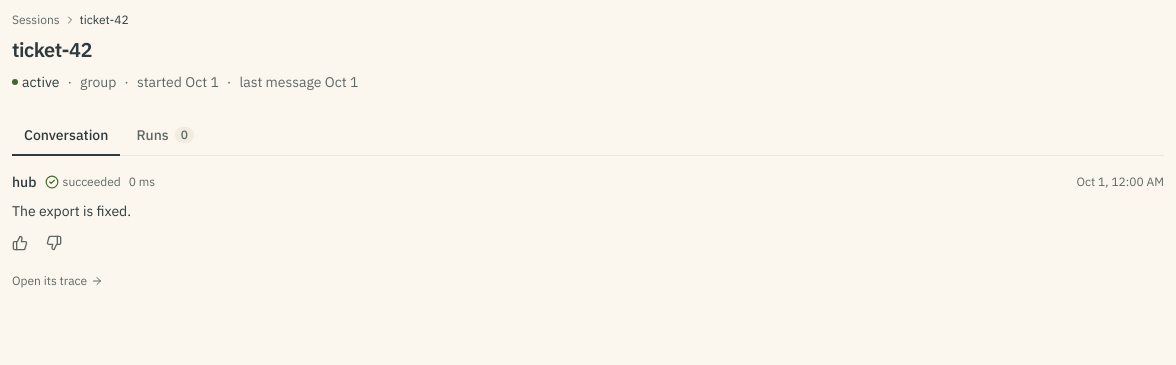
the note on a 👎 › keeps the note and says why when it cannot be sent
The width and height of the screenshot is (1176, 365).
Expected: the heading "ticket-42" is shown, [12,36,92,63]
Click the button named "This answer was wrong": (54, 243) [38,227,70,259]
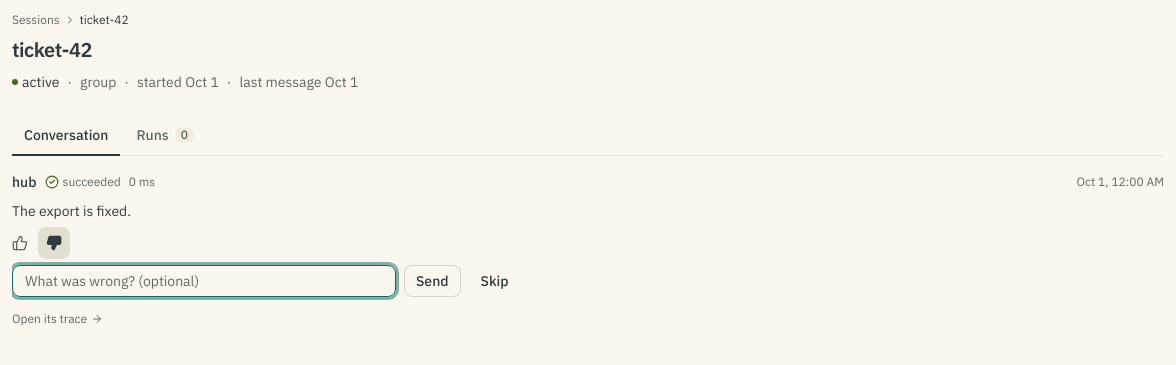
In the field labelled "What was wrong?": (204, 281) [12,265,396,297], type "Nope"
Then press Enter
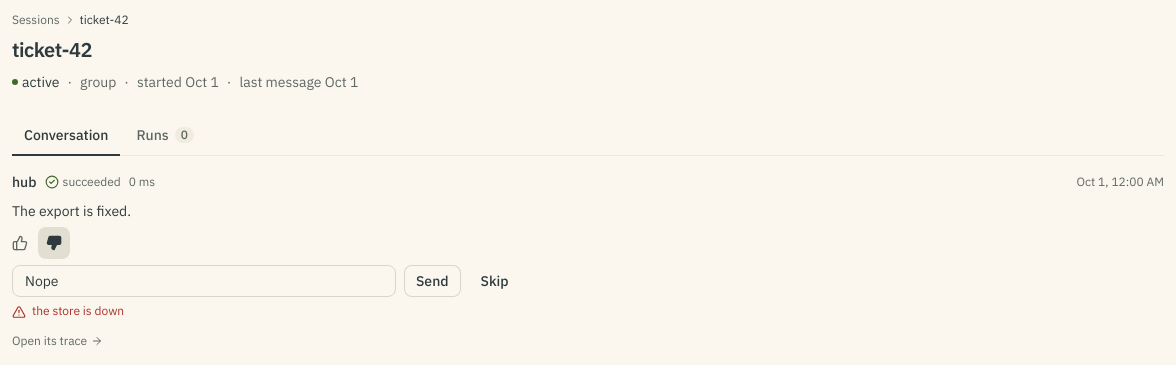
Expected: the message reads "the store is down", [32,303,124,318]
